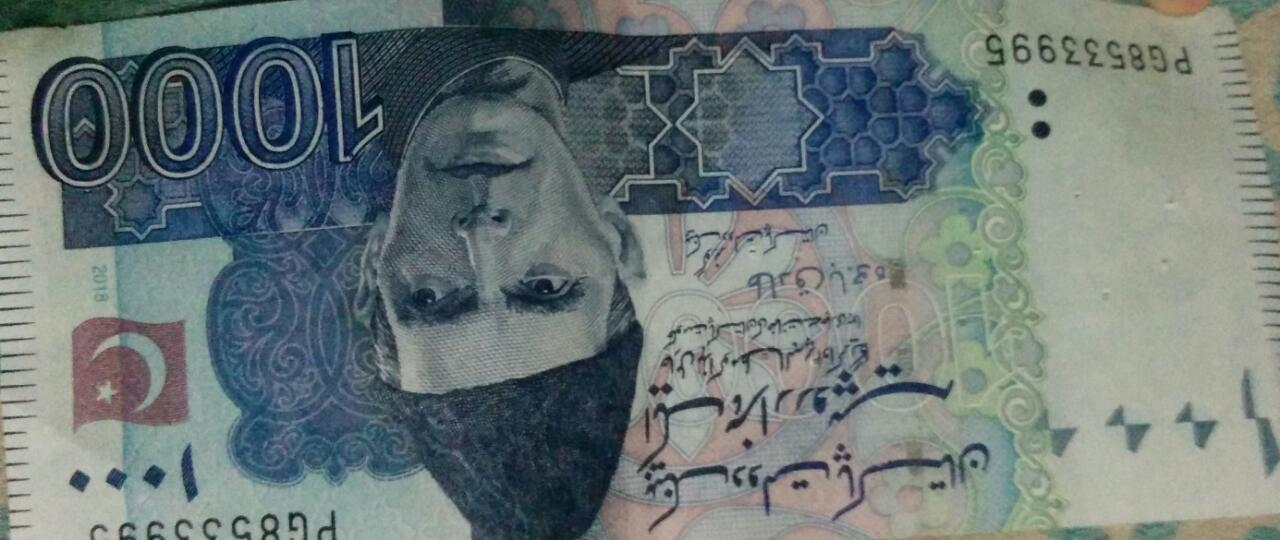1000 rupee: (11, 8, 1269, 532)
